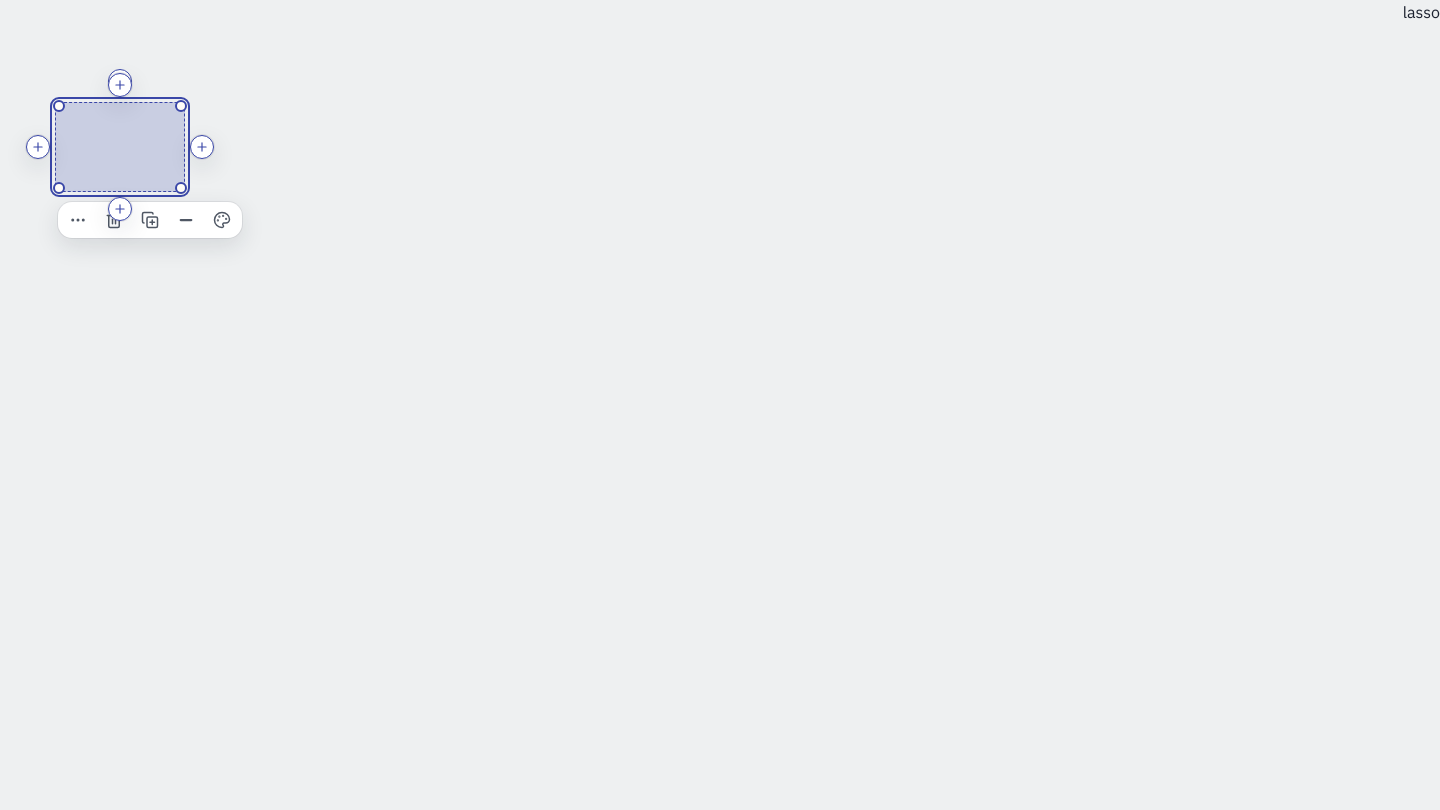
Test: G21 Course Brain concepts and the relation check › a shape bound to a concept keeps its id and name and is labelled with it; the relation check reads the map
Click the button named "المزيد" at (78, 220), box [62, 204, 94, 236]
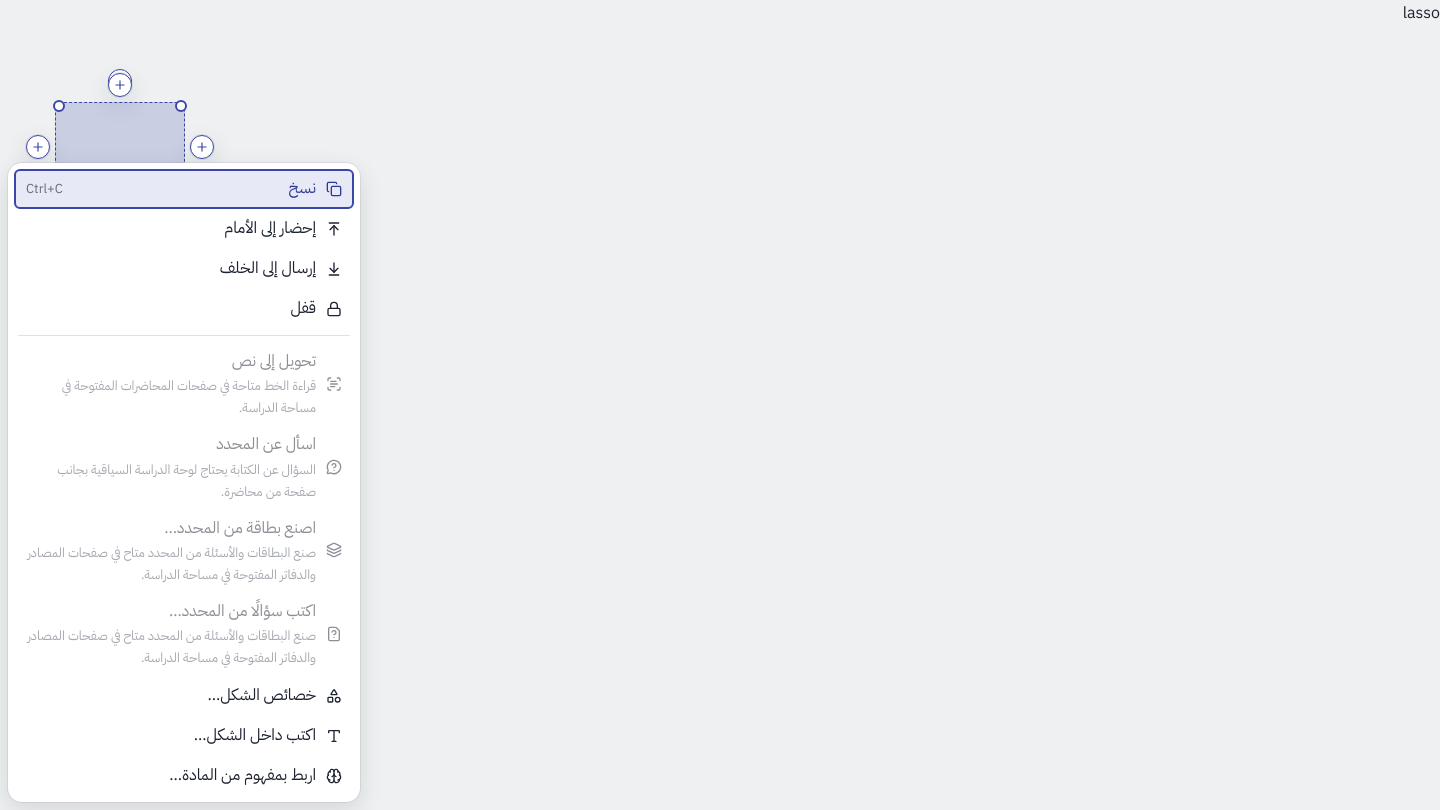
Click the menu item "اربط بمفهوم من المادة…" at (256, 775), box [169, 763, 342, 787]
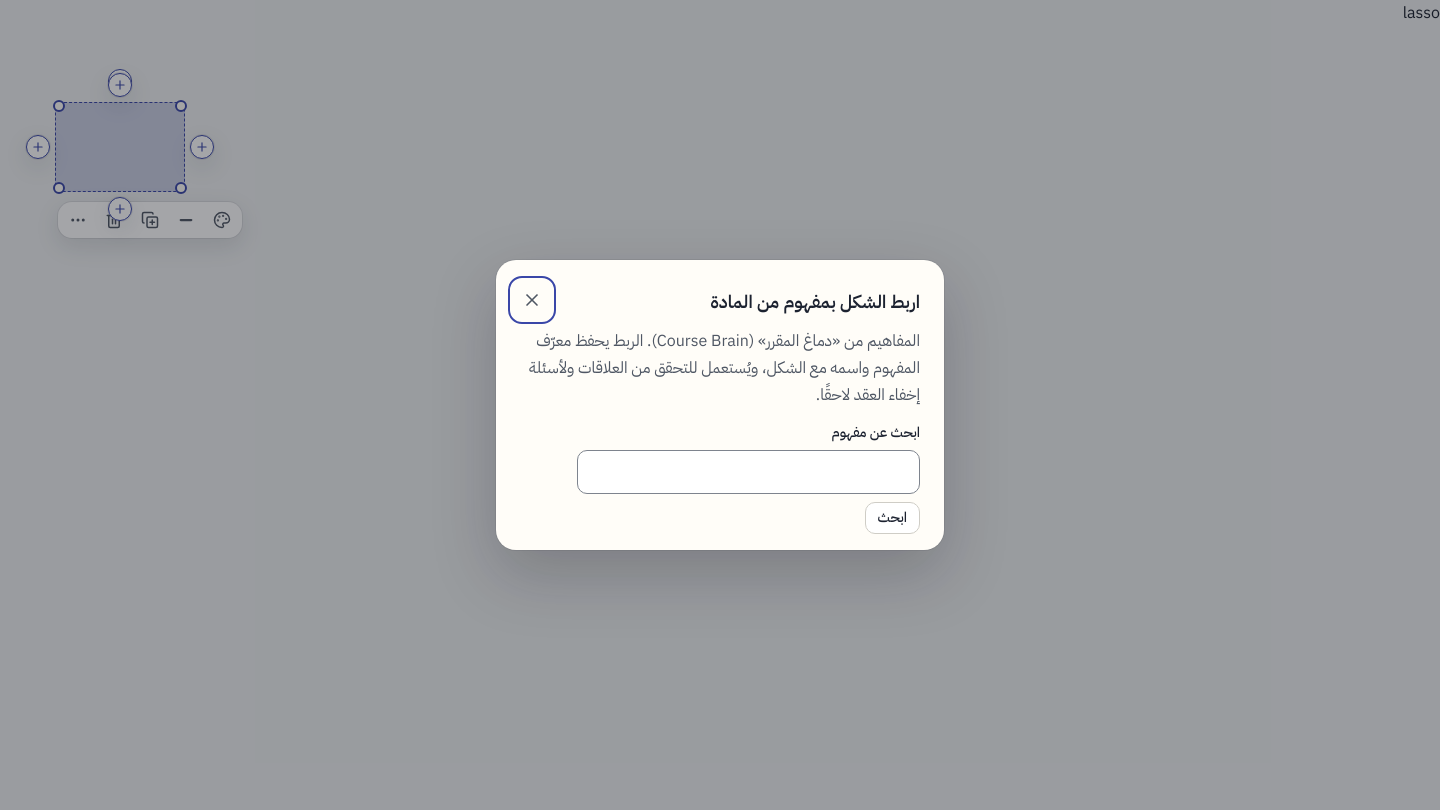
Type "insulin" into the field labelled "ابحث عن مفهوم" at (748, 472), box [577, 450, 920, 494]
Click the button "ابحث" at (892, 518), box [864, 502, 920, 534]
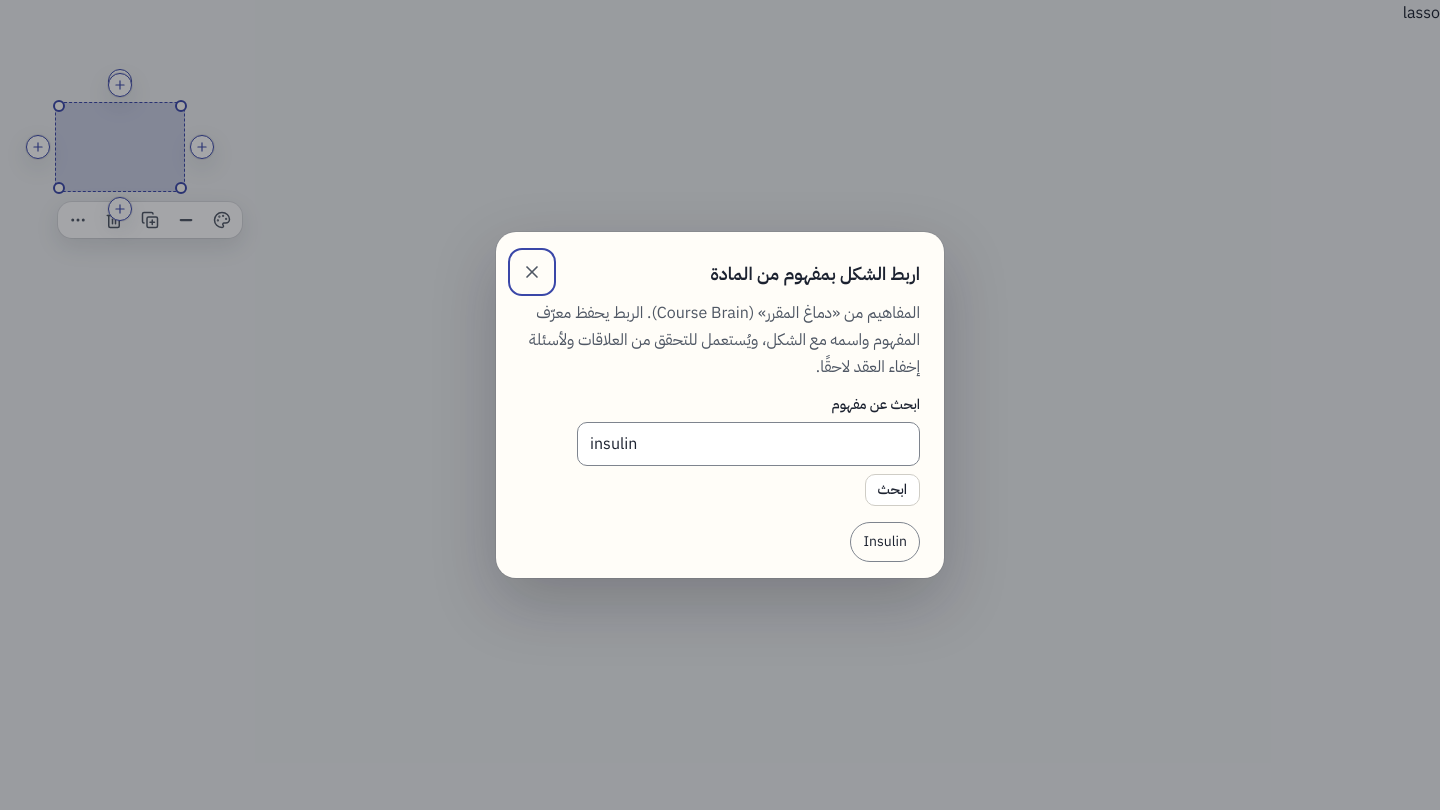
Click the button "Insulin" at (885, 542), box [850, 522, 920, 562]
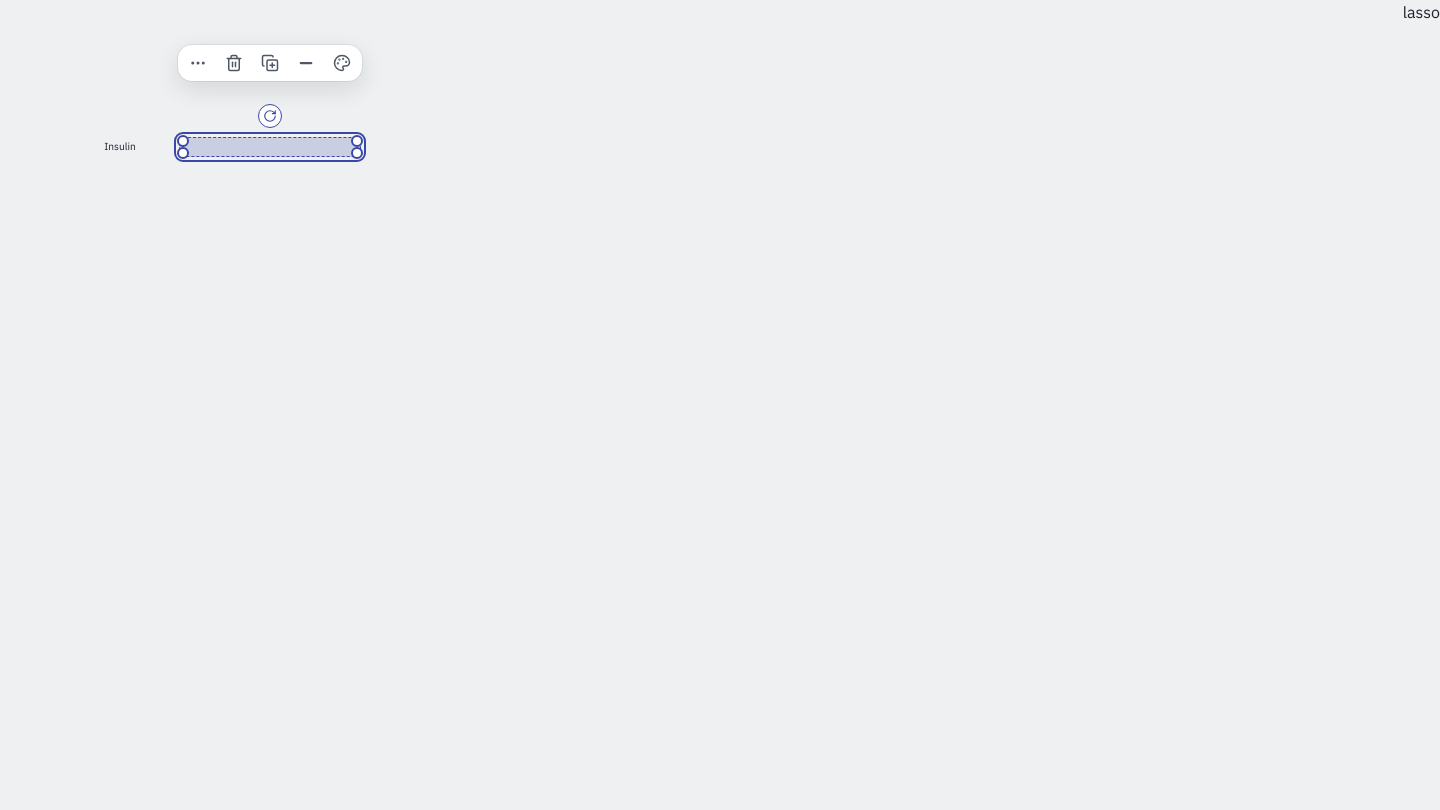
Now the text "Insulin" is shown, box [104, 139, 136, 154]
Note: the relation check (a read: nothing changes)
Click the button named "المزيد" at (198, 63), box [182, 47, 214, 79]
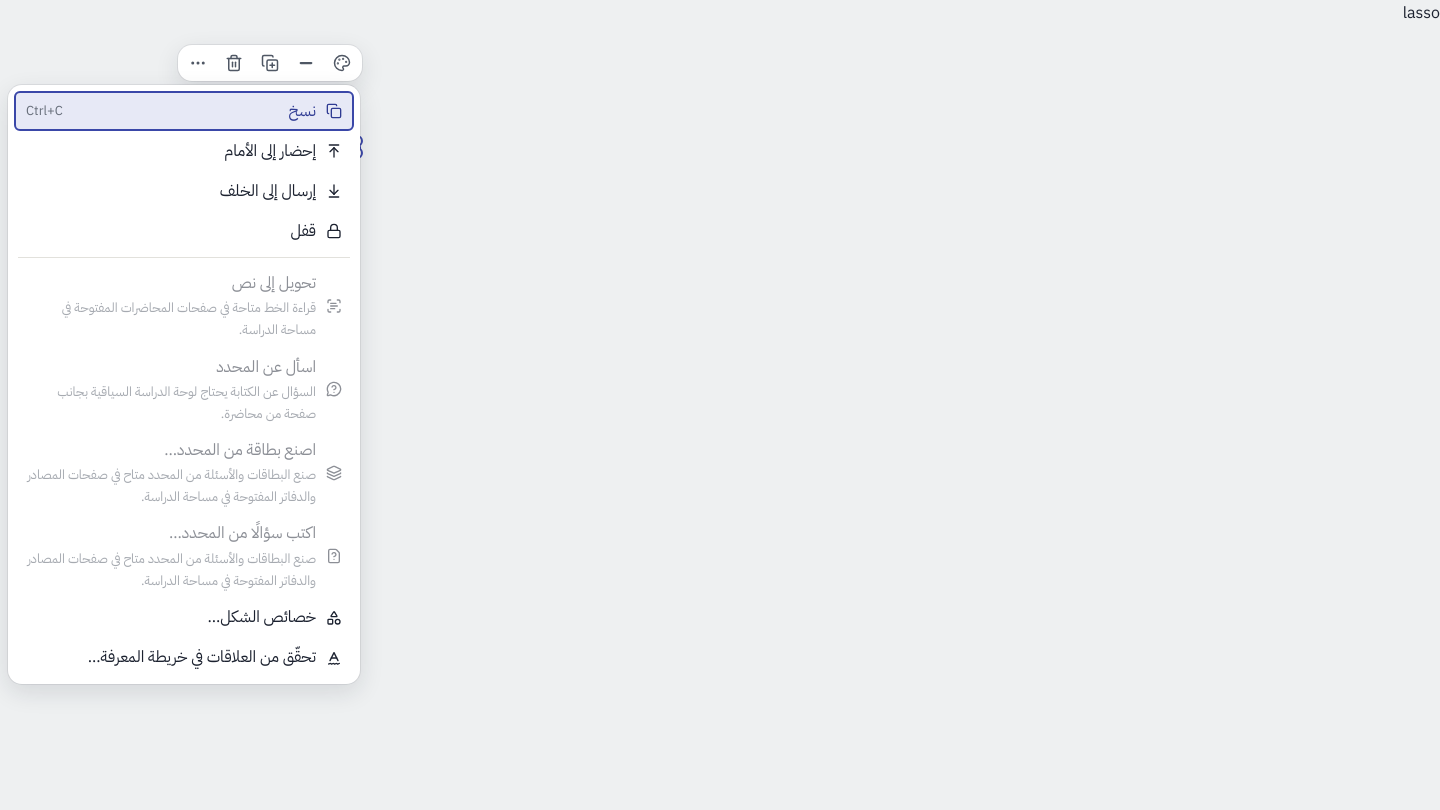
Click the menu item "تحقّق من العلاقات في خريطة المعرفة…" at (215, 657), box [88, 645, 342, 669]
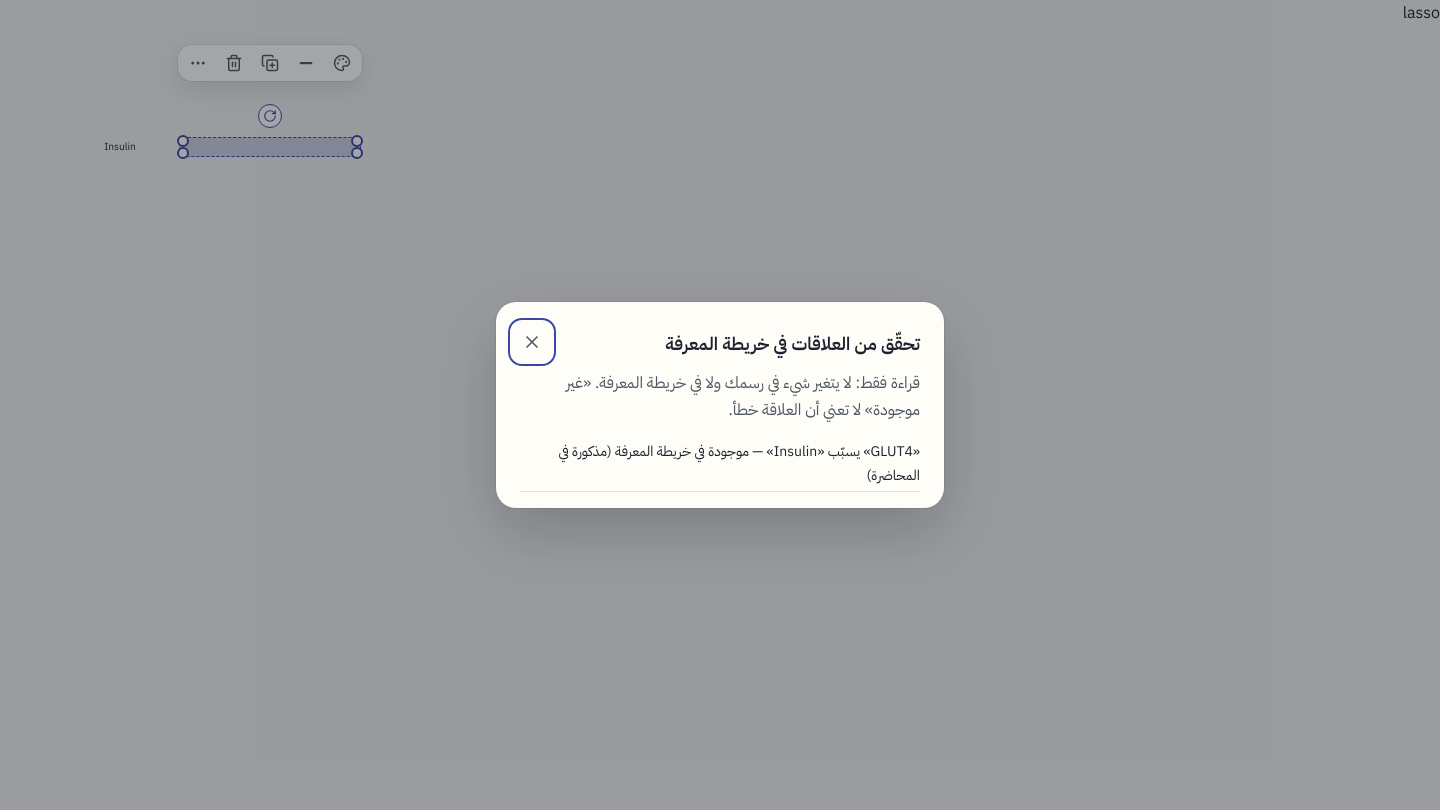
Now the list item "موجودة في خريطة المعرفة" is shown, box [558, 441, 920, 486]
Now the text "«Insulin» يسبّب «GLUT4»" is shown, box [766, 441, 920, 462]
